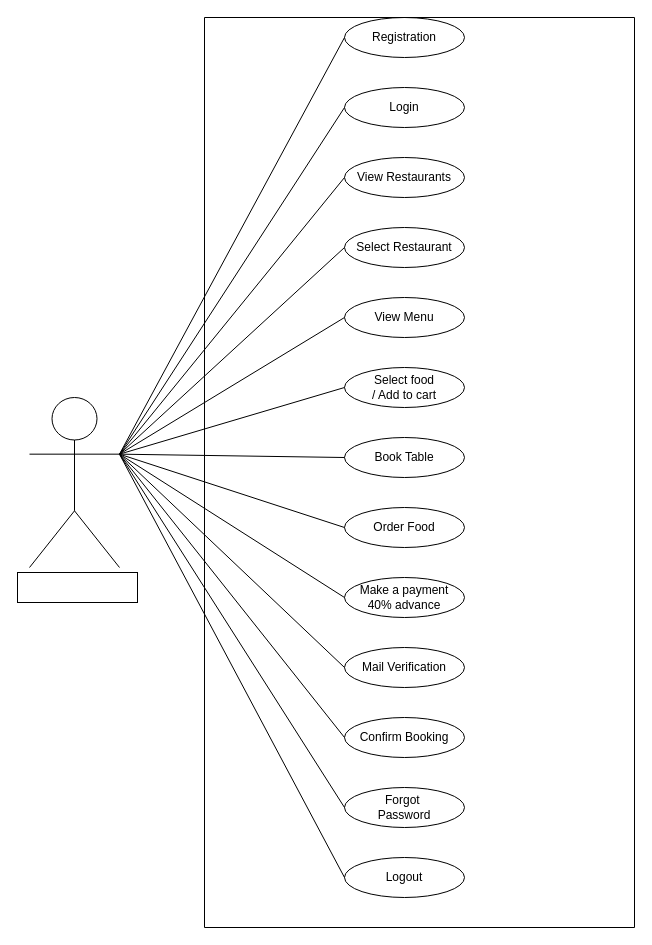
The diagram is 652 pixels wide and 945 high, and some of its shapes have lost their labels. The centre of each missing label's shape, as x and y in pixels:
"Actor" belongs at point (74, 482).
"Customer" belongs at point (77, 587).
